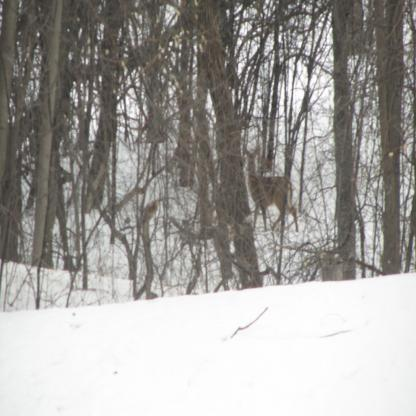Deer: (242, 139, 300, 236)
